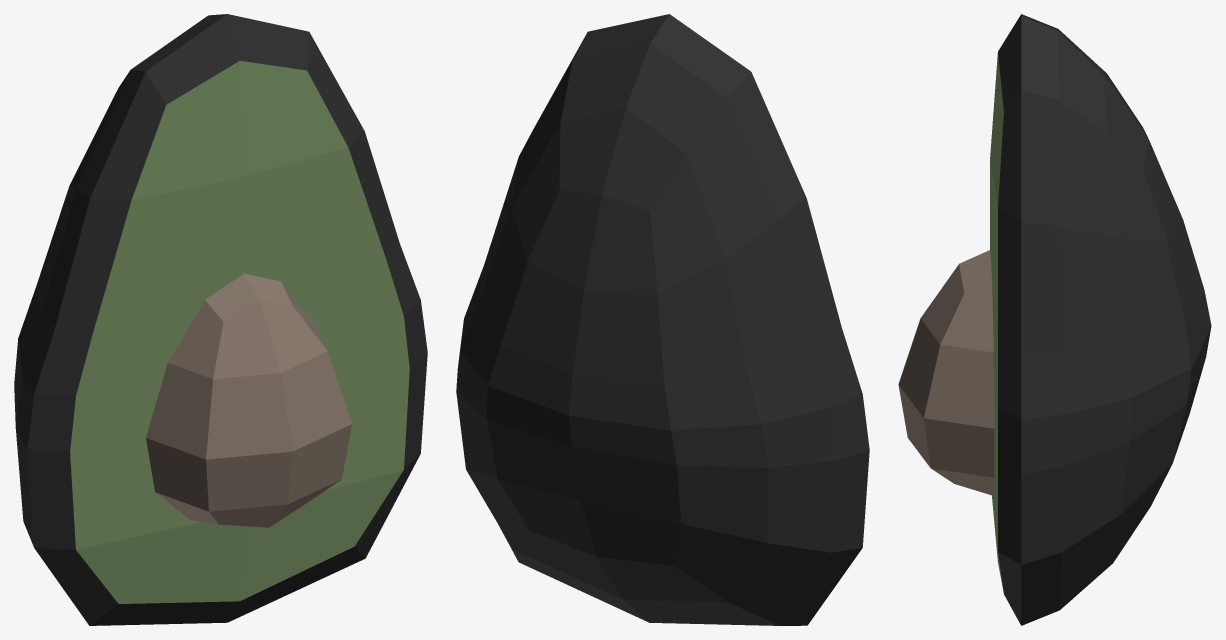
File: Avocado.glb
3 views of the same model, side by side, from view 1: azimuth 30°, elevation 25°; view 2: azimuth 150°, elevation 25°; view 3: azimuth 270°, elevation 25° (orthographic). The views are drawn at different scales.
Visible parts, largest first — view 1: Avocado; view 2: Avocado; view 3: Avocado.
Boxes of the visible parts, x1=… form: Avocado: x1=14, y1=14, x2=427, y2=625; Avocado: x1=456, y1=14, x2=869, y2=625; Avocado: x1=898, y1=14, x2=1211, y2=625.
Bounding box in the file's own units: 0.7531 × 1.09 × 0.5398.
